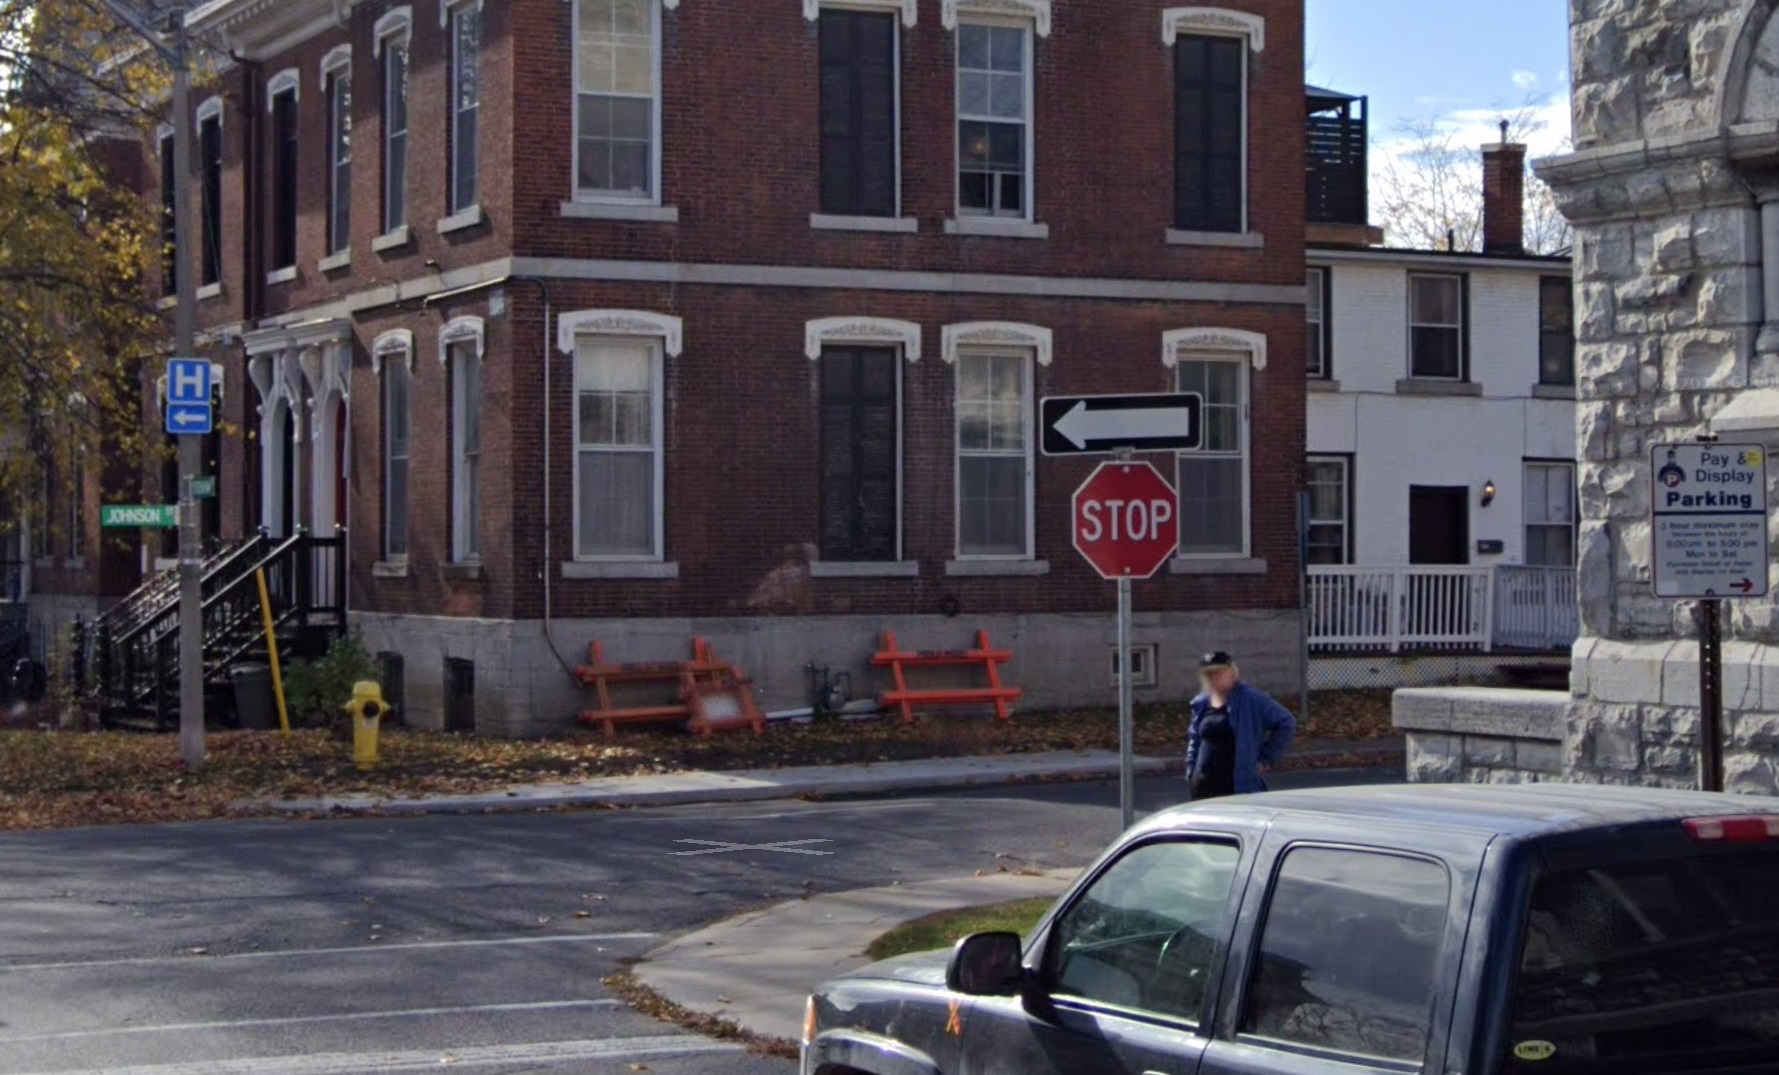sign_oneway_left: (1038, 390, 1205, 457)
